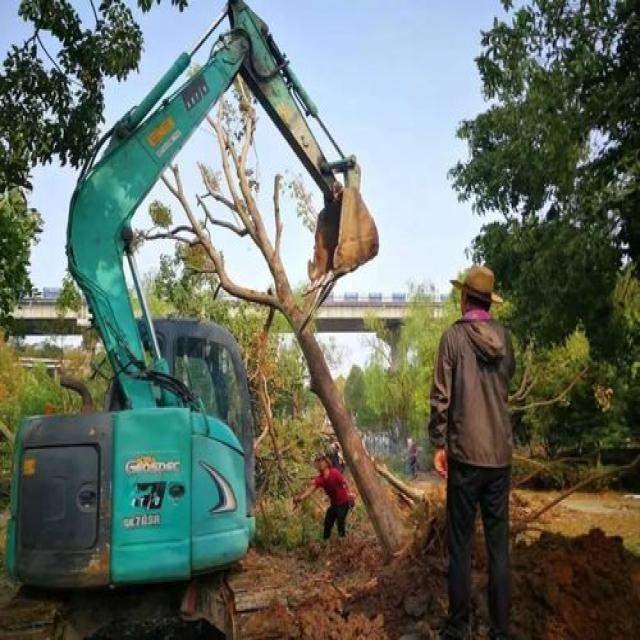fallen_object: (158, 68, 430, 546)
